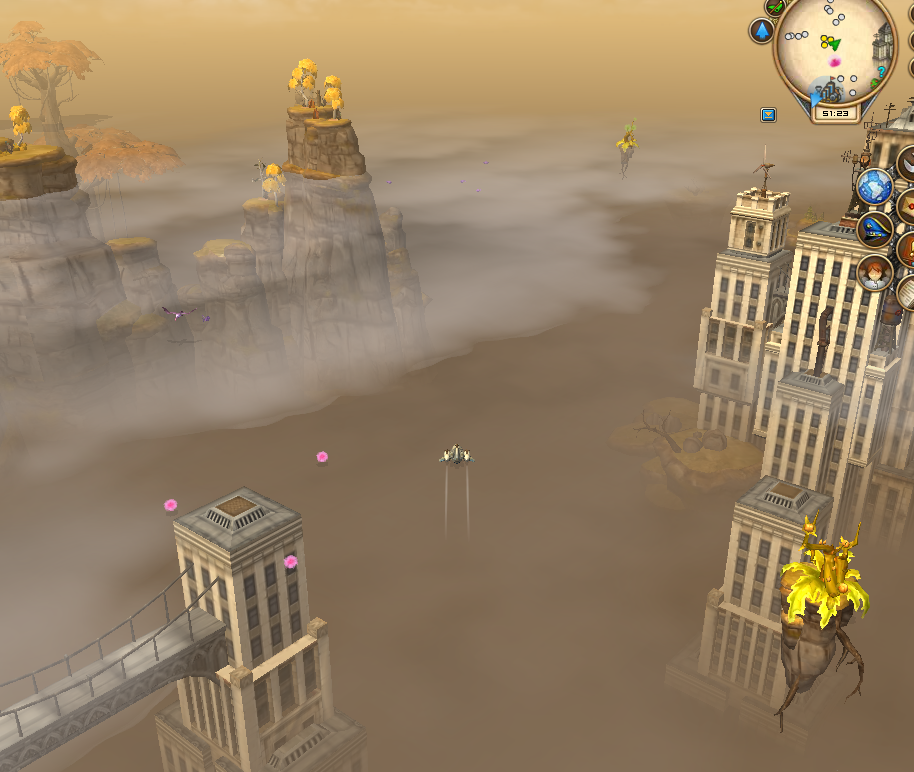dandelion-empty: (768, 500, 872, 707)
dandelion-full: (611, 115, 640, 161)
fluff: (280, 548, 302, 575), (158, 492, 180, 514), (313, 448, 331, 468)
